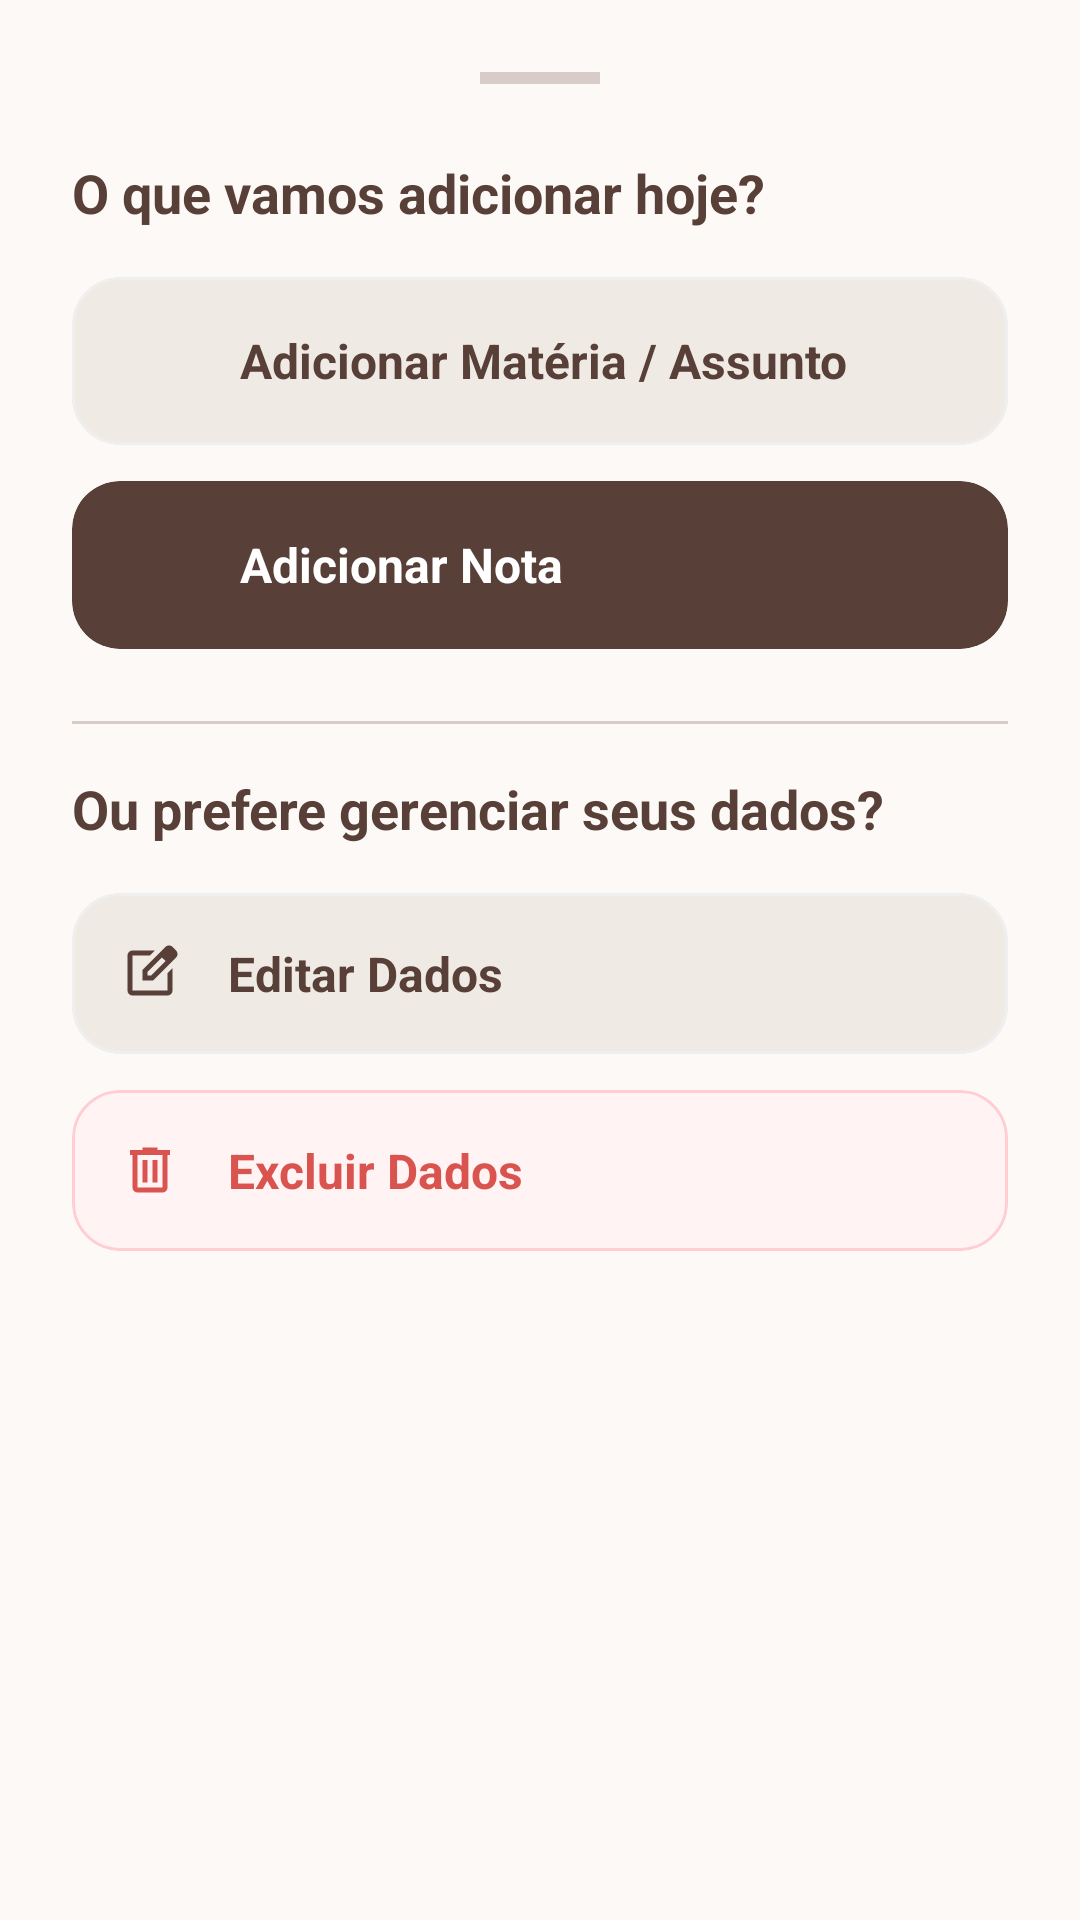

Screen size 1080 × 1920. Icon name, then its center in pixels as (x=x, y=y):
delete novo: (x=150, y=1170)
edit novo: (x=152, y=970)
